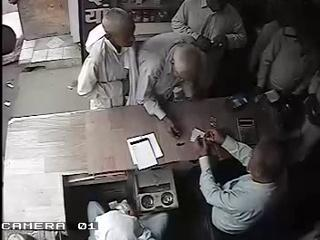Normal: (193, 126, 287, 239)
shoplifting: (76, 8, 140, 110)
